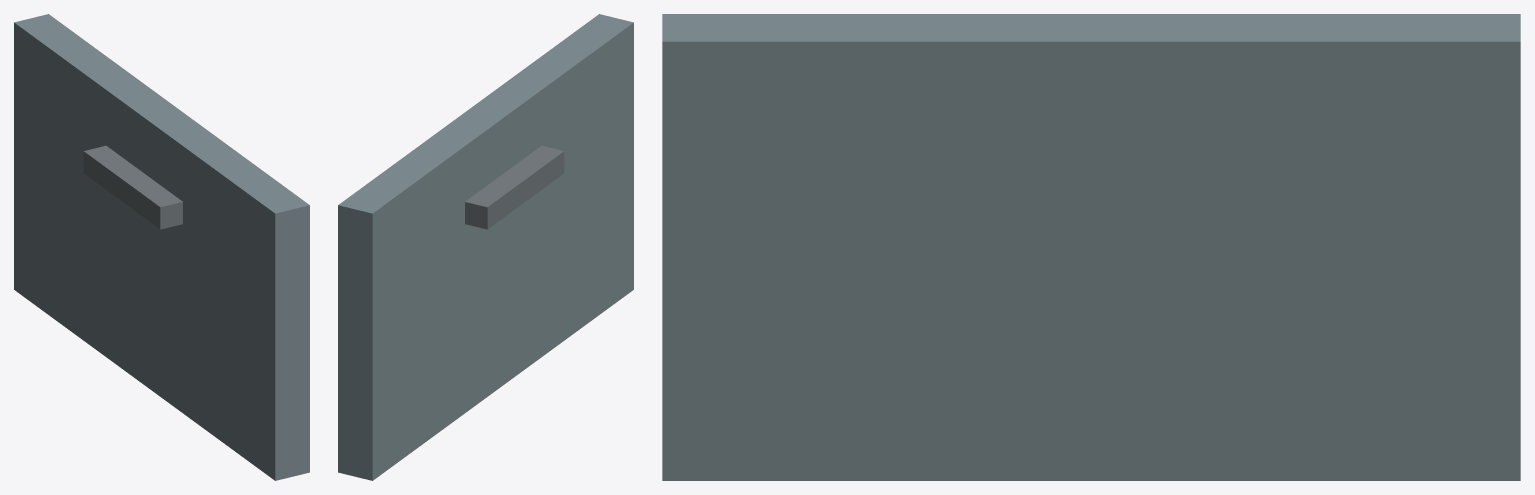
Rendered from car_door_left_panel.glb.
The picture shows the model from 3 angles, left to right: view 1: azimuth 30°, elevation 25°; view 2: azimuth 150°, elevation 25°; view 3: azimuth 270°, elevation 25°; orthographic projection. The views are drawn at different scales.
Visible parts, largest first — view 1: body; view 2: body; view 3: body.
Part boxes in pixels (bbox=[...]): body: bbox=[14, 14, 309, 480]; body: bbox=[338, 14, 633, 480]; body: bbox=[662, 14, 1520, 480].
Bounding box in the file's own units: 0.1075 × 0.48 × 0.85.
